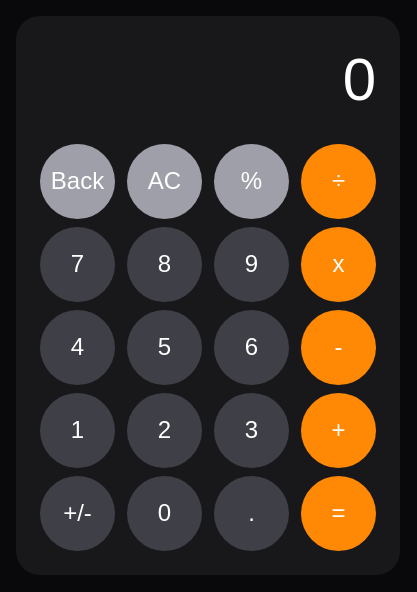
Test: number entry › converts a number to a percentage
This screenshot has width=417, height=592.
Click the button "5": click(164, 347) [127,310,202,384]
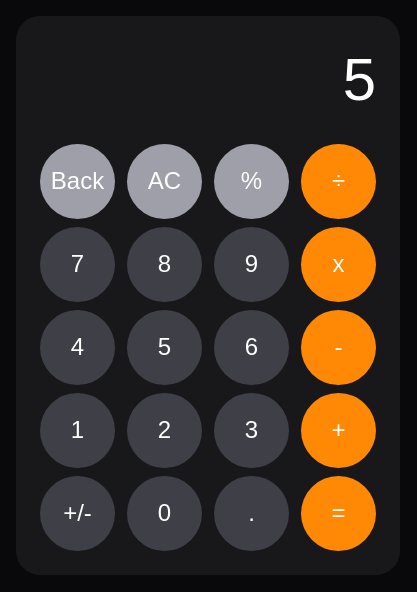
Click the button "0": click(164, 513) [127,476,202,550]
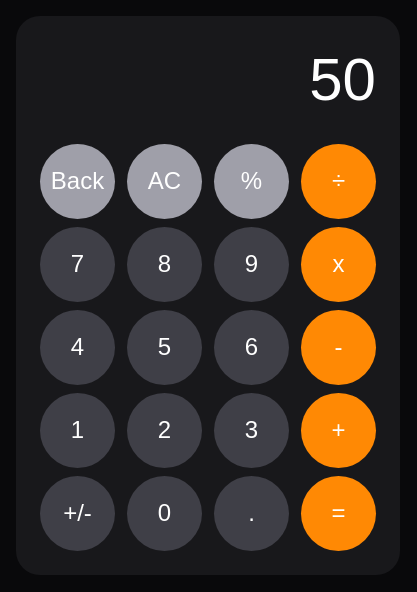
Click the button "%": click(252, 181) [214,144,289,218]
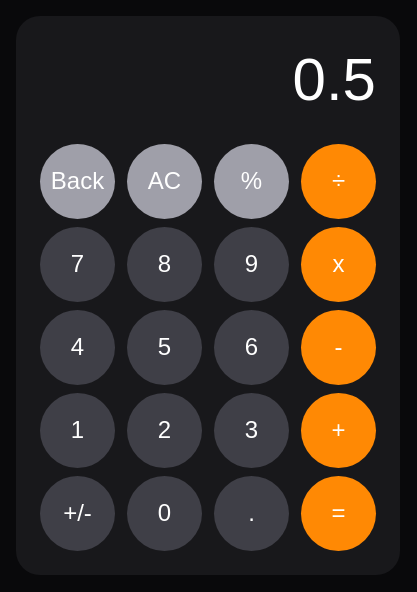
Now the element showing "0.5" is shown, box [293,46,376,112]
